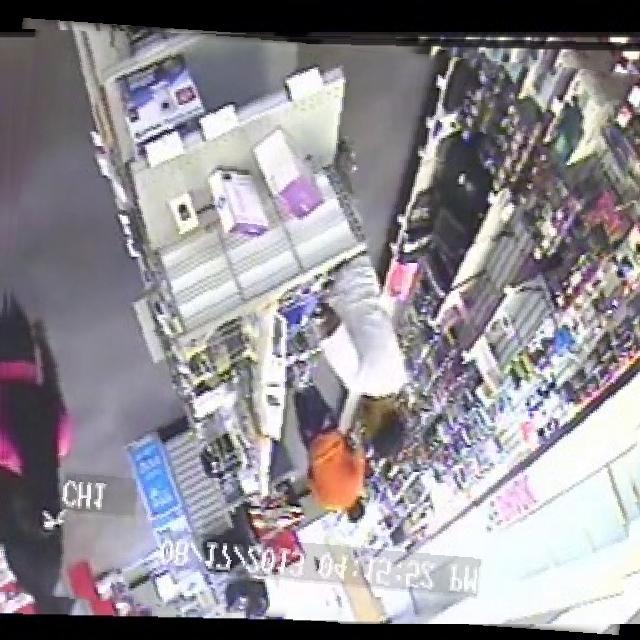Normal: (0, 29, 640, 624)
